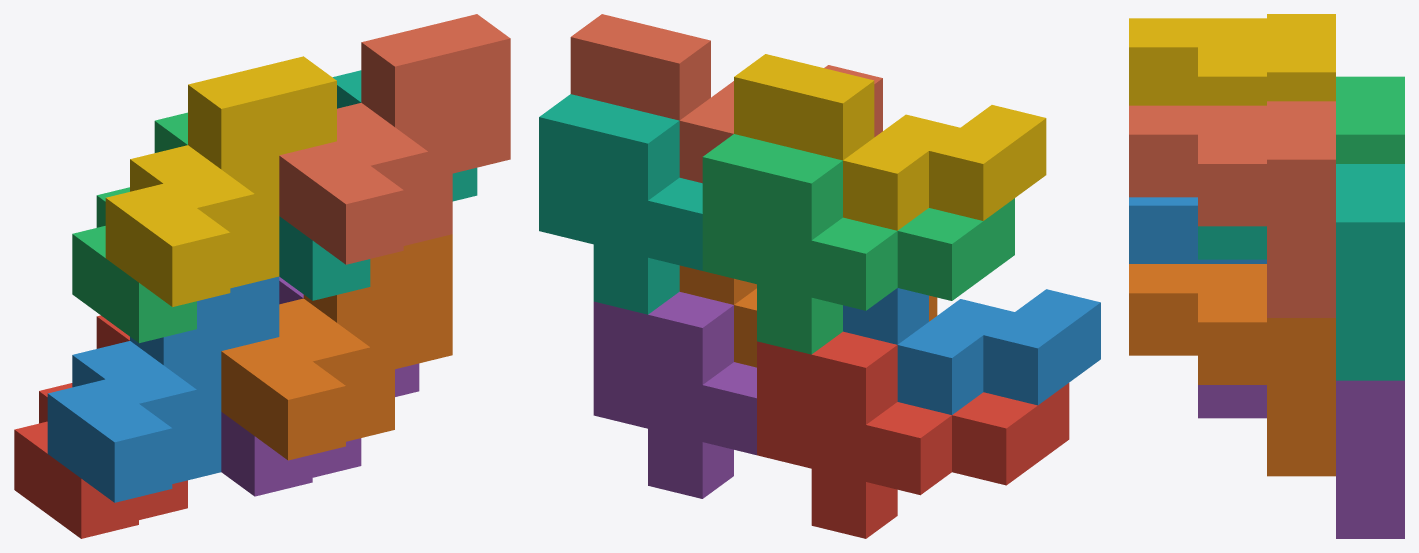
File: tiling.obj
3 views of the same model, side by side, from view 1: azimuth 30°, elevation 25°; view 2: azimuth 150°, elevation 25°; view 3: azimuth 270°, elevation 25° (orthographic). The views are drawn at different scales.
Visible parts, largest first — view 1: copy_1_domain_8, copy_1_domain_4, copy_1_domain_6, copy_1_domain_2, copy_1_domain_1, copy_1_domain_3, copy_1_domain_5, copy_1_domain_7; view 2: copy_1_domain_3, copy_1_domain_1, copy_1_domain_4, copy_1_domain_7, copy_1_domain_5, copy_1_domain_2, copy_1_domain_8, copy_1_domain_6; view 3: copy_1_domain_8, copy_1_domain_6, copy_1_domain_4, copy_1_domain_7, copy_1_domain_5, copy_1_domain_3, copy_1_domain_2.
Part boxes in pixels (box(x1,y1,x2,y2)): copy_1_domain_8: box(279, 14, 510, 264); copy_1_domain_4: box(105, 56, 336, 306); copy_1_domain_6: box(221, 234, 452, 460); copy_1_domain_2: box(47, 276, 279, 502); copy_1_domain_1: box(14, 315, 187, 538); copy_1_domain_3: box(72, 112, 196, 343); copy_1_domain_5: box(221, 277, 419, 496); copy_1_domain_7: box(279, 70, 477, 300); copy_1_domain_3: box(702, 134, 1014, 354); copy_1_domain_1: box(757, 331, 1069, 538); copy_1_domain_4: box(734, 54, 1046, 230); copy_1_domain_7: box(539, 94, 702, 314); copy_1_domain_5: box(593, 291, 756, 498); copy_1_domain_2: box(843, 288, 1100, 414); copy_1_domain_8: box(570, 14, 882, 183); copy_1_domain_6: box(679, 265, 937, 367); copy_1_domain_8: box(1129, 101, 1335, 317); copy_1_domain_6: box(1129, 264, 1335, 476); copy_1_domain_4: box(1129, 14, 1335, 105); copy_1_domain_7: box(1198, 164, 1404, 380); copy_1_domain_5: box(1198, 380, 1404, 538); copy_1_domain_3: box(1336, 76, 1404, 163); copy_1_domain_2: box(1129, 197, 1266, 263).
Size of the model in its own units: 8 by 7 by 4.
